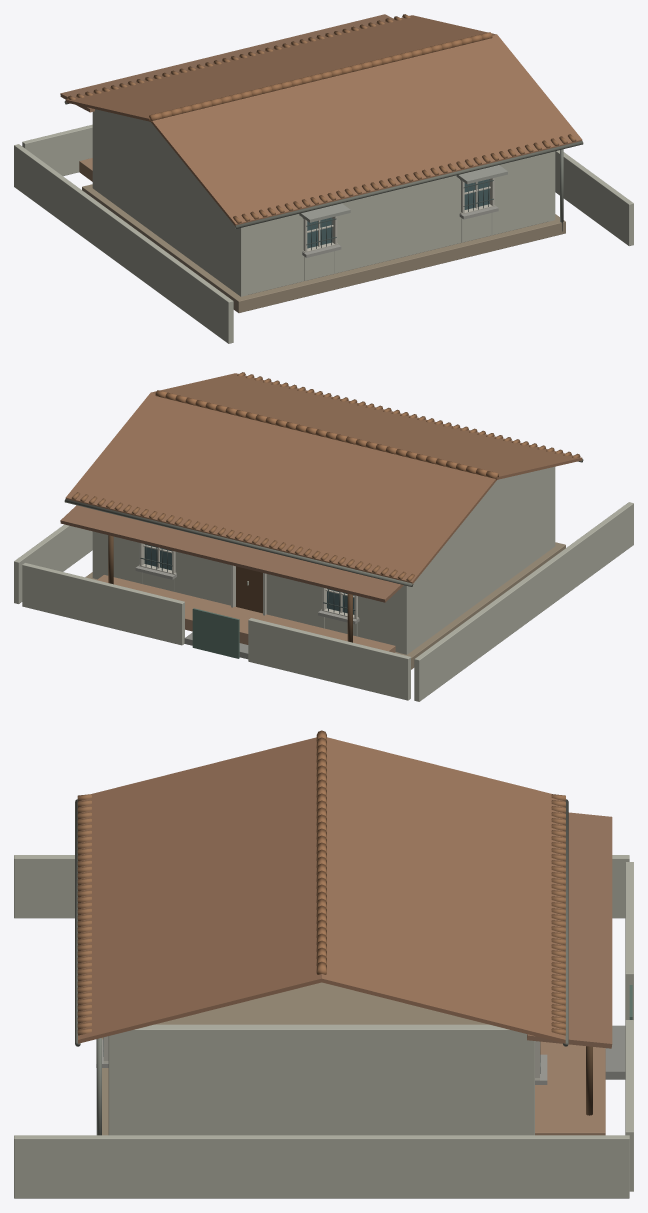
File: courtyard_house.glb
3 views of the same model, one above another, from view 1: azimuth 30°, elevation 25°; view 2: azimuth 150°, elevation 25°; view 3: azimuth 270°, elevation 25° (orthographic). The views are drawn at different scales.
Visible parts, largest first — view 1: courtyard_house; view 2: courtyard_house; view 3: courtyard_house.
Boxes of the visible parts, x1,y1,x2,y2 form: courtyard_house: (14, 14, 633, 343); courtyard_house: (14, 372, 633, 701); courtyard_house: (14, 730, 633, 1198).
Bounding box in the file's own units: 14.18 × 4.78 × 13.09.
